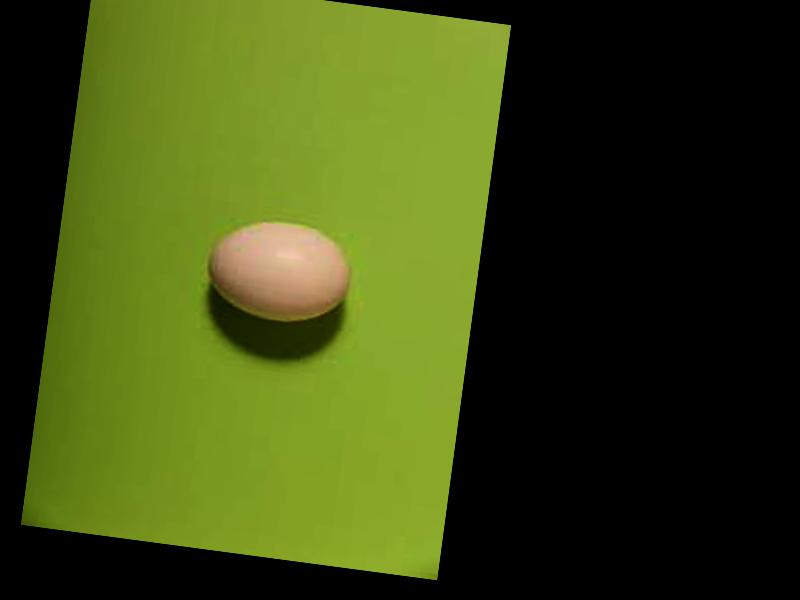Eggs: (199, 215, 355, 329)
